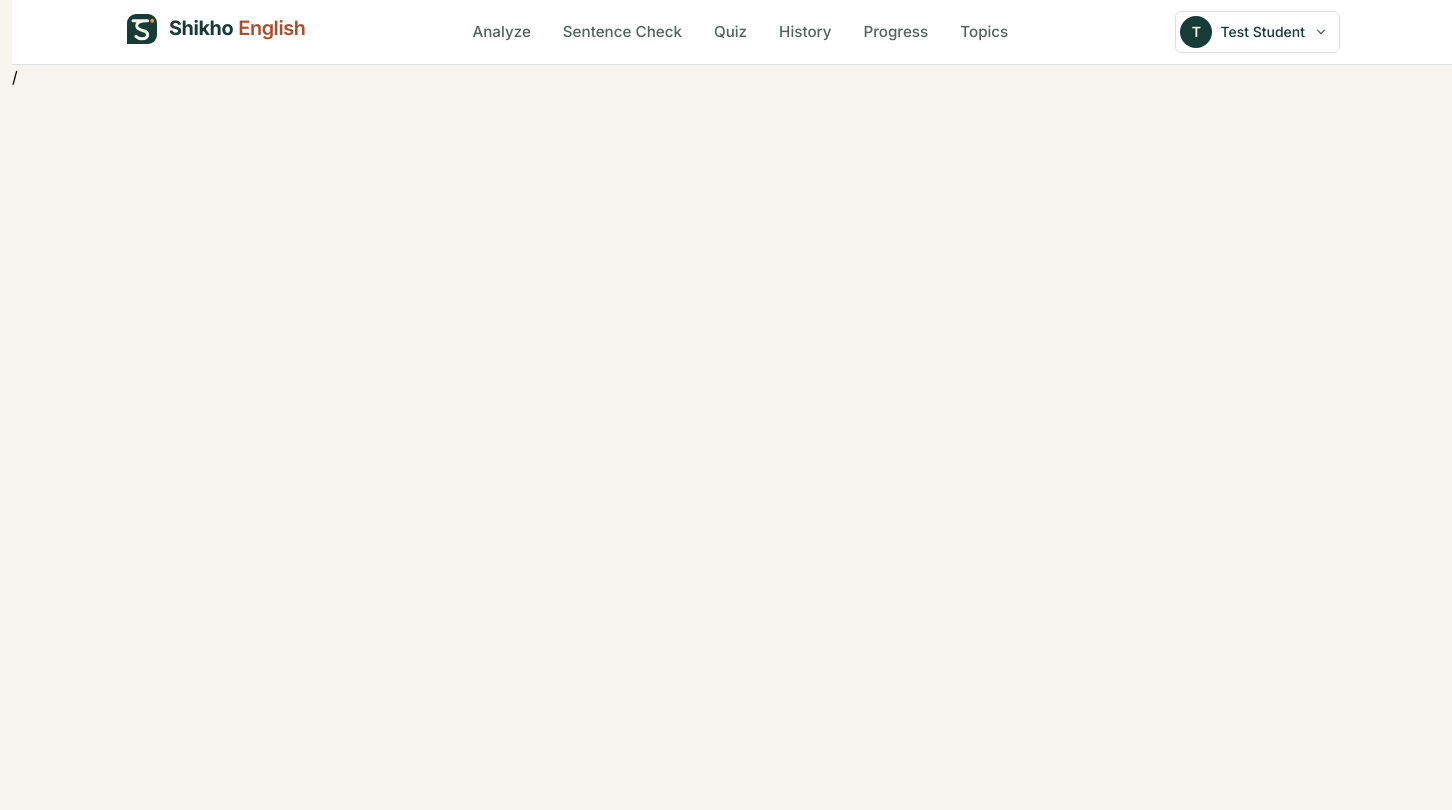
Test case: Navbar › the account menu closes when clicking elsewhere
This screenshot has width=1452, height=810.
Click the button with aria-label "Account menu for Test Student": (1258, 32) [1175,11,1340,53]
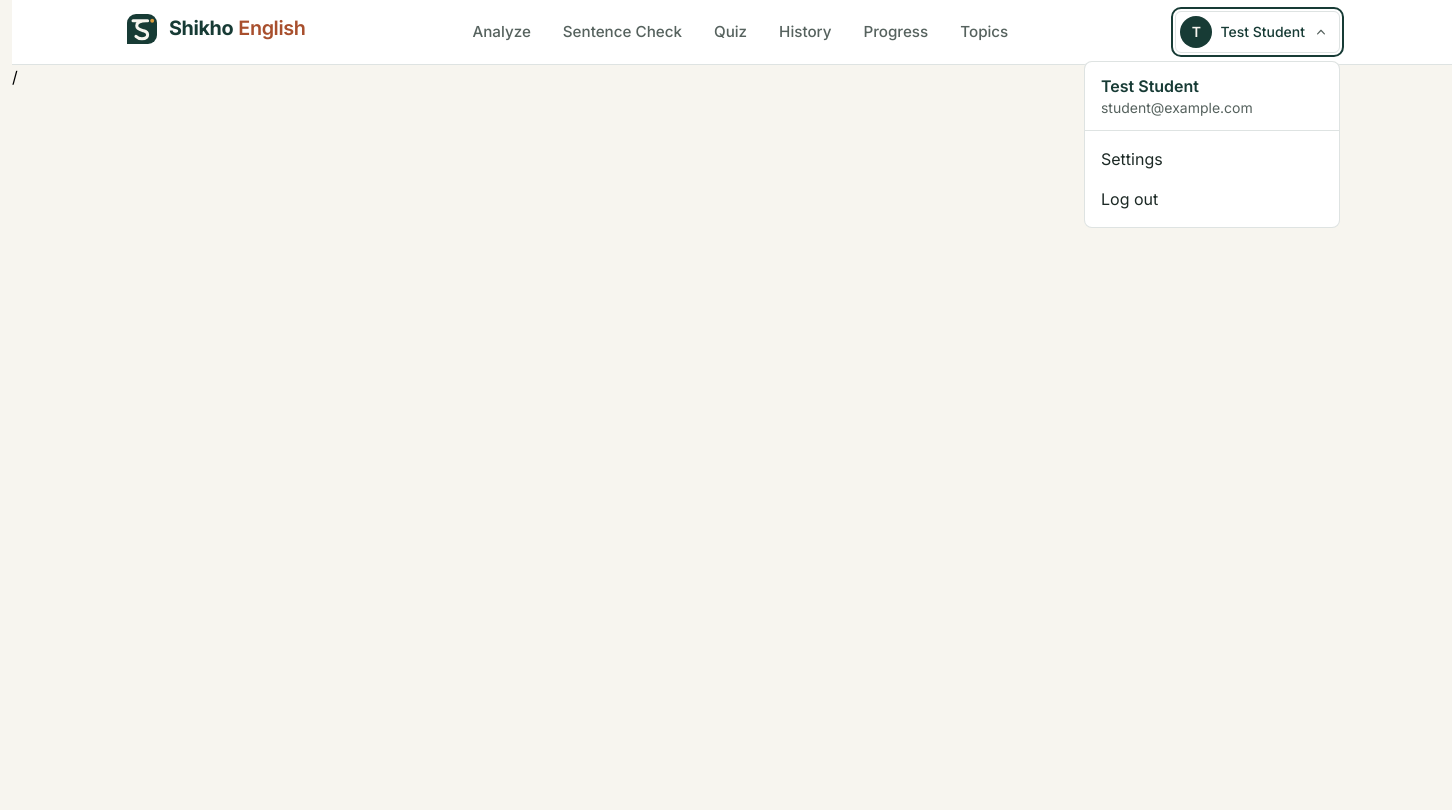
Click the element that starts with "Shikho": (732, 405) [12,0,1451,809]
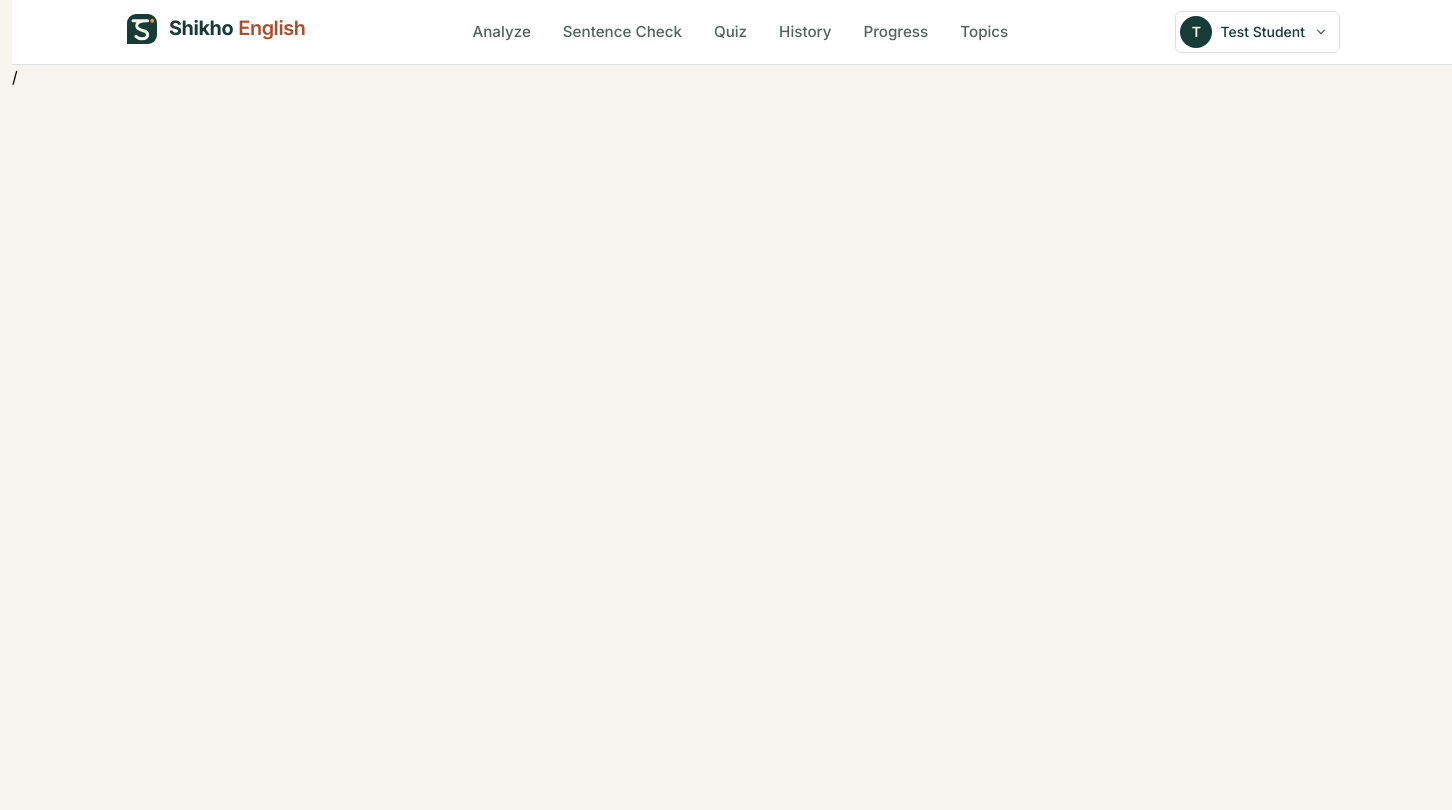
Result: the element with id "account-menu" is gone
